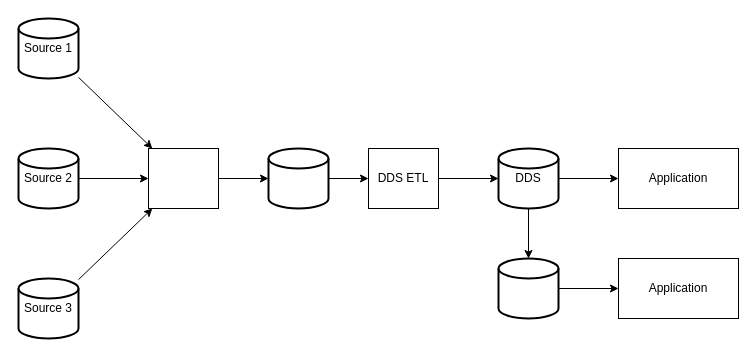
Some shapes in this 756 by 356 pixel diagram are drawn without their labels. The centre of each missing label's shape, as x and y in pixels:
"MDB" goes at (528,288).
"NDS" goes at (298,178).
"NDS ETL" goes at (183,178).
